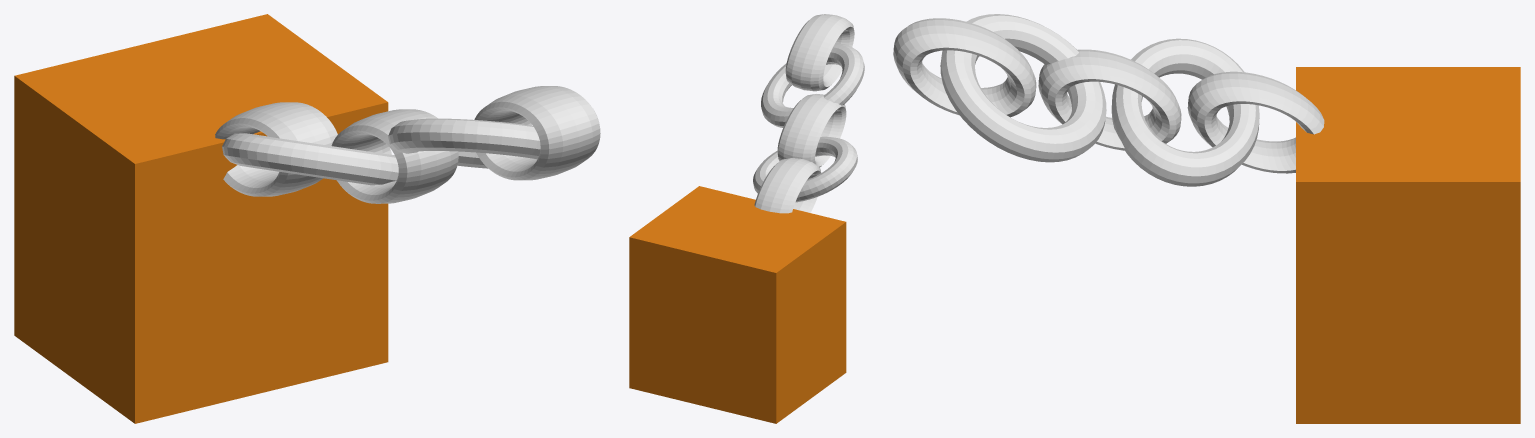
File: cadenas.glb
3 renders of one model, left to right at view 1: azimuth 30°, elevation 25°; view 2: azimuth 150°, elevation 25°; view 3: azimuth 270°, elevation 25°, orthographic. The views are drawn at different scales.
Visible parts, largest first — view 1: Cube.002; view 2: Cube.002; view 3: Cube.002.
Part boxes in pixels (box(x1,y1,x2,y2)): Cube.002: box(14, 14, 600, 423); Cube.002: box(629, 14, 864, 423); Cube.002: box(893, 14, 1520, 423).
Size of the model in its own units: 0.455 by 0.6294 by 0.9286.
